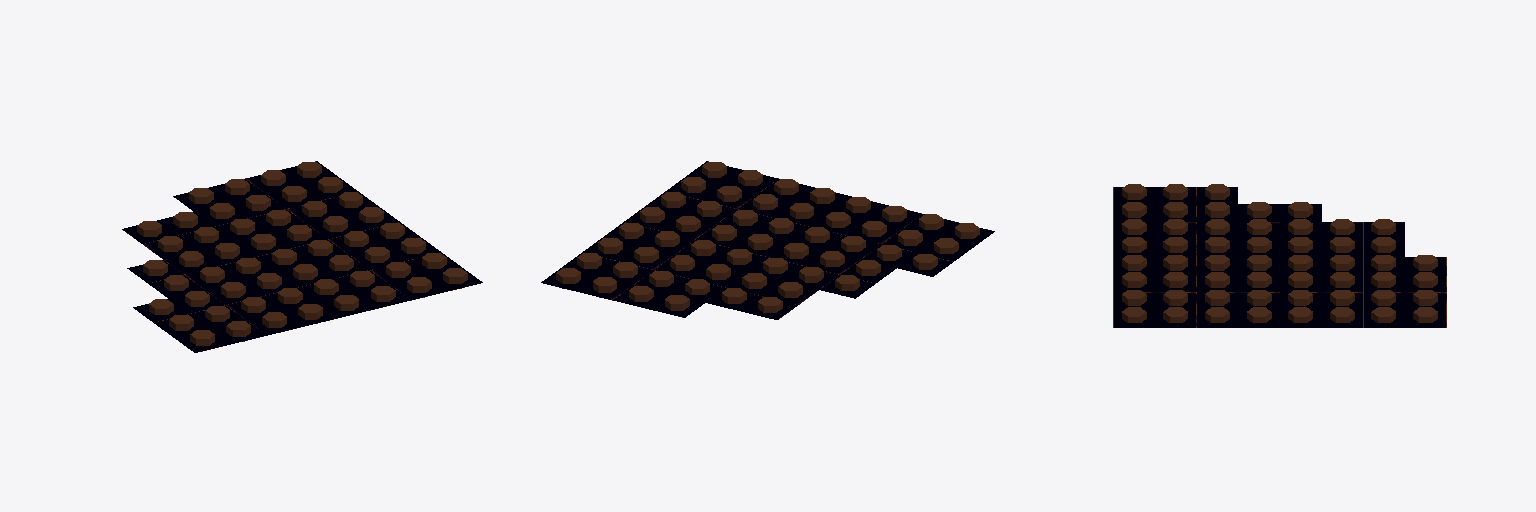
3 renders of one model, left to right at view 1: azimuth 30°, elevation 25°; view 2: azimuth 150°, elevation 25°; view 3: azimuth 270°, elevation 25°, orthographic.
Visible parts, largest first — view 1: Cube.000_Cube.003; view 2: Cube.000_Cube.003; view 3: Cube.000_Cube.003.
Boxes of the visible parts, x1,y1,x2,y2 form: Cube.000_Cube.003: [122, 161, 482, 352]; Cube.000_Cube.003: [541, 161, 994, 319]; Cube.000_Cube.003: [1113, 184, 1446, 327].
Bounding box in the file's own units: 8 × 0.3 × 8.
1 materials, 1 textured.